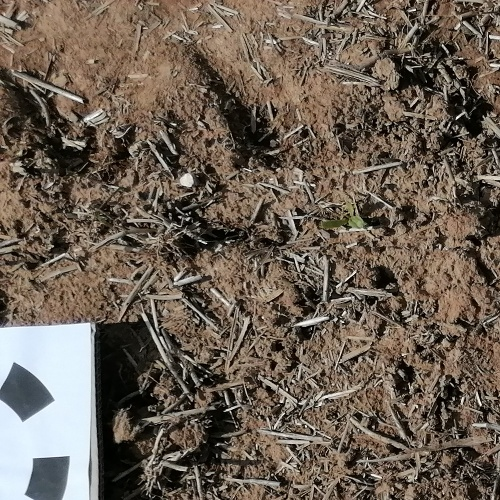beet: (319, 199, 364, 226)
